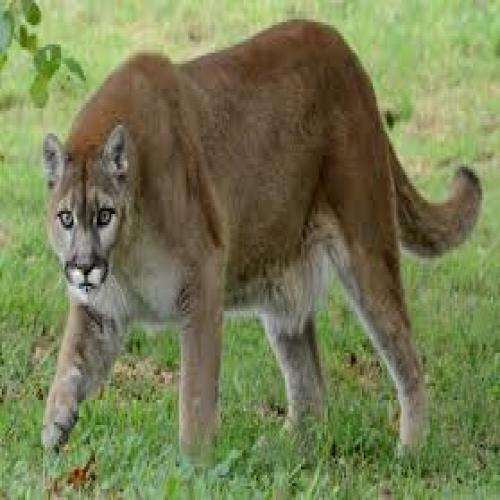lion-endangered: (46, 23, 456, 451)
